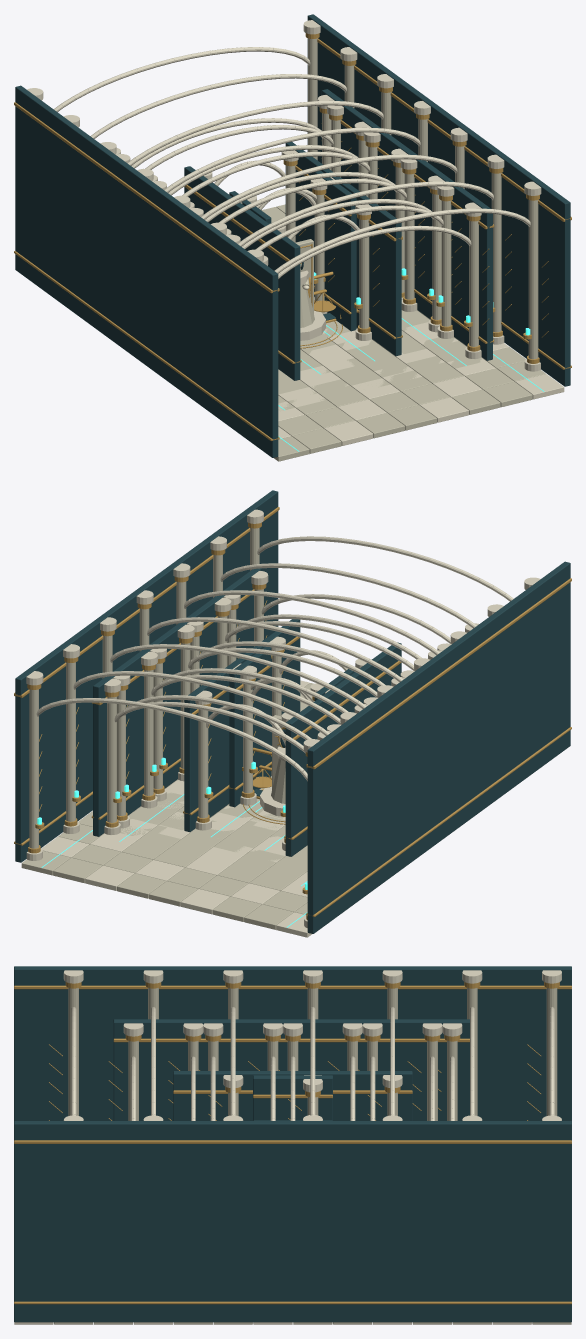
The model's file is balance-temple-v02.glb.
3 views of the same model, one above another, from view 1: azimuth 30°, elevation 25°; view 2: azimuth 150°, elevation 25°; view 3: azimuth 270°, elevation 25° (orthographic). The views are drawn at different scales.
Visible parts, largest first — view 1: hall_lever_Midnight teal, hall_lever_Carved limestone, hall_lever_Ivory limestone, hall_entry_Midnight teal, hall_order_Carved limestone, hall_order_Ivory limestone, hall_twin_Midnight teal, hall_twin_Carved limestone, hall_twin_Ivory limestone, hall_lever_Aged brass, hall_corridor_Midnight teal, hall_order_Midnight teal (+7 smaller); view 2: hall_lever_Midnight teal, hall_lever_Carved limestone, hall_lever_Ivory limestone, hall_entry_Midnight teal, hall_order_Midnight teal, hall_order_Carved limestone, hall_order_Ivory limestone, hall_twin_Carved limestone, hall_twin_Ivory limestone, hall_lever_Aged brass, hall_corridor_Midnight teal, hall_entry_Ivory limestone (+5 smaller); view 3: hall_lever_Midnight teal, hall_order_Midnight teal, hall_lever_Aged brass, hall_lever_Carved limestone, hall_twin_Midnight teal, hall_entry_Midnight teal, hall_lever_Ivory limestone, hall_order_Carved limestone, hall_corridor_Midnight teal, hall_twin_Carved limestone, hall_order_Ivory limestone, hall_order_Aged brass (+3 smaller).
Boxes of the visible parts, bbox=[...] form: hall_lever_Midnight teal: bbox=[15, 14, 570, 457]; hall_lever_Carved limestone: bbox=[27, 20, 564, 445]; hall_lever_Ivory limestone: bbox=[261, 38, 545, 461]; hall_entry_Midnight teal: bbox=[184, 142, 401, 380]; hall_order_Carved limestone: bbox=[115, 95, 481, 407]; hall_order_Ivory limestone: bbox=[278, 113, 481, 411]; hall_twin_Midnight teal: bbox=[331, 96, 482, 345]; hall_twin_Carved limestone: bbox=[116, 105, 458, 392]; hall_twin_Ivory limestone: bbox=[278, 120, 466, 402]; hall_lever_Aged brass: bbox=[14, 33, 571, 440]; hall_corridor_Midnight teal: bbox=[229, 170, 356, 331]; hall_order_Midnight teal: bbox=[321, 89, 492, 360]; hall_lever_Midnight teal: bbox=[15, 490, 570, 933]; hall_lever_Carved limestone: bbox=[26, 509, 540, 937]; hall_lever_Ivory limestone: bbox=[21, 528, 313, 929]; hall_entry_Midnight teal: bbox=[184, 619, 401, 856]; hall_order_Midnight teal: bbox=[93, 568, 264, 836]; hall_order_Carved limestone: bbox=[104, 571, 478, 886]; hall_order_Ivory limestone: bbox=[107, 589, 307, 883]; hall_twin_Carved limestone: bbox=[113, 595, 451, 873]; hall_twin_Ivory limestone: bbox=[117, 609, 307, 874]; hall_lever_Aged brass: bbox=[14, 507, 571, 919]; hall_corridor_Midnight teal: bbox=[229, 646, 354, 807]; hall_entry_Ivory limestone: bbox=[198, 655, 285, 847]; hall_lever_Midnight teal: bbox=[14, 966, 571, 1322]; hall_order_Midnight teal: bbox=[113, 1019, 469, 1120]; hall_lever_Aged brass: bbox=[14, 982, 571, 1304]; hall_lever_Carved limestone: bbox=[14, 970, 561, 1324]; hall_twin_Midnight teal: bbox=[134, 1019, 450, 1120]; hall_entry_Midnight teal: bbox=[173, 1071, 412, 1120]; hall_lever_Ivory limestone: bbox=[54, 988, 571, 1324]; hall_order_Carved limestone: bbox=[123, 1023, 462, 1120]; hall_corridor_Midnight teal: bbox=[253, 1075, 332, 1120]; hall_twin_Carved limestone: bbox=[183, 1023, 442, 1120]; hall_order_Ivory limestone: bbox=[128, 1041, 457, 1120]; hall_order_Aged brass: bbox=[108, 1035, 469, 1120].
Size of the model in its own units: 18.91 by 11.3 by 28.
